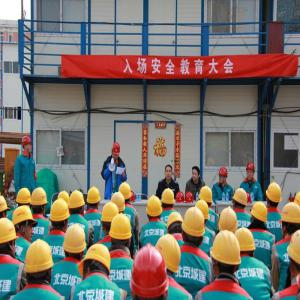none: (165, 164, 174, 182), (192, 167, 201, 184)
red: (130, 246, 169, 300), (21, 135, 34, 156), (112, 141, 122, 162), (246, 162, 256, 182), (219, 167, 230, 185)
yellow: (211, 230, 242, 282), (23, 239, 55, 287), (81, 244, 112, 284), (155, 234, 182, 277), (182, 207, 205, 249), (109, 214, 133, 252), (63, 223, 86, 262), (13, 205, 35, 244), (235, 227, 257, 261), (281, 202, 300, 241), (1, 217, 18, 260), (50, 198, 70, 233), (287, 231, 300, 284), (265, 180, 283, 211), (250, 202, 269, 230), (102, 202, 119, 233), (31, 186, 48, 216), (167, 210, 184, 238), (147, 194, 162, 224), (70, 191, 86, 218), (233, 187, 248, 213), (162, 188, 177, 212), (87, 187, 101, 212), (199, 185, 213, 210), (119, 183, 132, 205)
